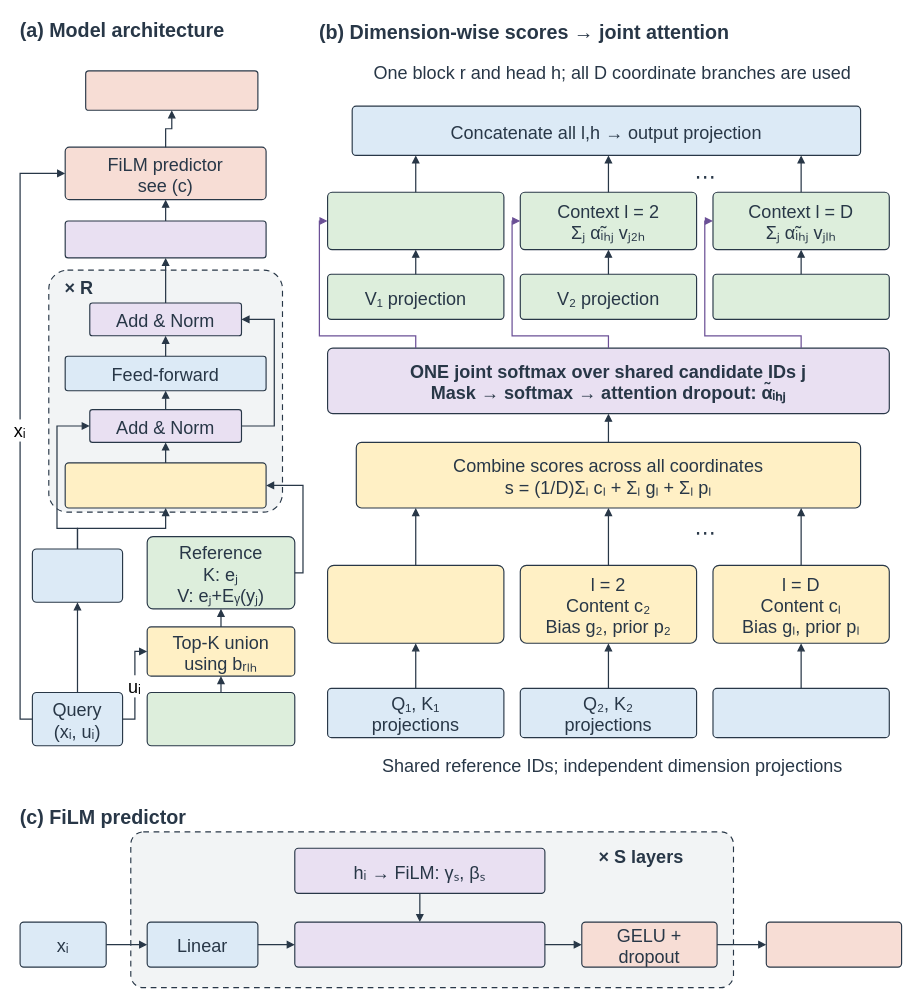
The diagram is 919 pixels wide and 1001 high, and some of its shapes have lost their labels. Here are the shapes that lost their labels. From the top down, the box of each, then its label:
(85, 70, 258, 110): Prediction ŷᵢ
(64, 220, 266, 258): Local condition hᵢ
(327, 191, 504, 250): Context l = 1 Σⱼ α̃ᵢₕⱼ vⱼ₁ₕ
(712, 273, 889, 320): Vₗ projection
(64, 462, 266, 508): Joint attention see (b)
(31, 548, 123, 602): Query eᵢ
(327, 564, 504, 643): l = 1 Content c₁ Bias g₁, prior p₁
(146, 692, 295, 746): Training bank (xⱼ, uⱼ, yⱼ)
(712, 687, 889, 738): Qₗ, Kₗ projections
(294, 921, 545, 967): (1+tanh γₛ) ⊙ aₛ + βₛ
(765, 921, 902, 967): Linear readout
